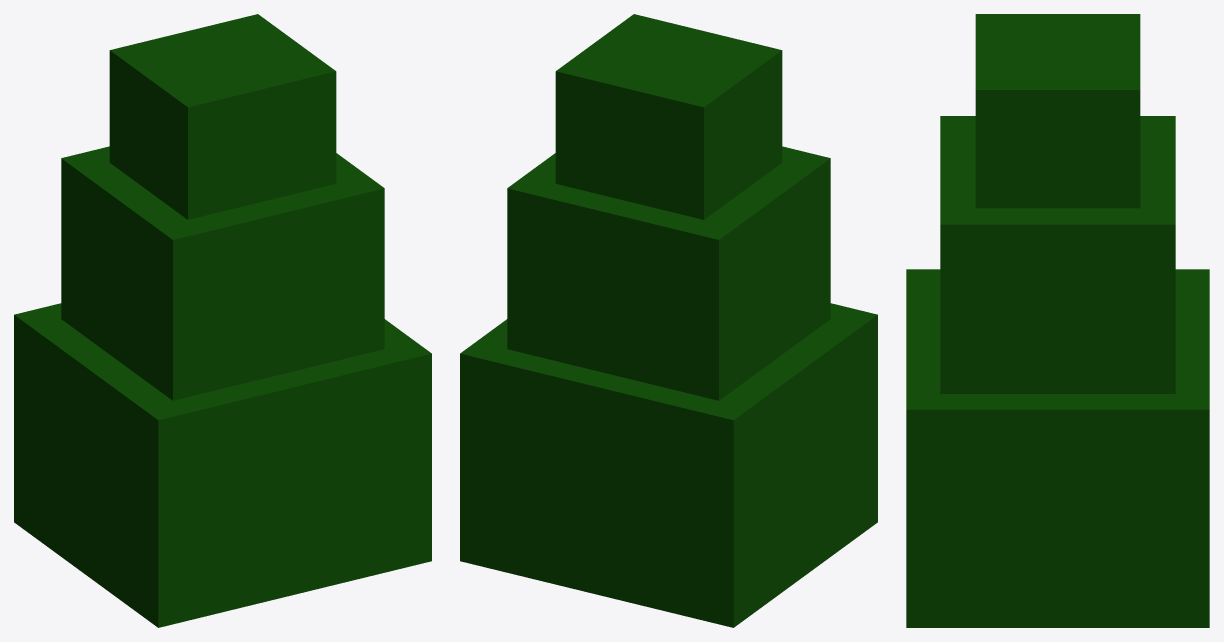
File: tree1.fbx
3 views of the same model, side by side, from view 1: azimuth 30°, elevation 25°; view 2: azimuth 150°, elevation 25°; view 3: azimuth 270°, elevation 25° (orthographic). The views are drawn at different scales.
Parts seen in each view (by area): view 1: leves tree 1; view 2: leves tree 1; view 3: leves tree 1.
Boxes of the visible parts, bbox=[...] form: leves tree 1: bbox=[14, 14, 431, 627]; leves tree 1: bbox=[460, 14, 877, 627]; leves tree 1: bbox=[906, 14, 1209, 627].
Size of the model in its own units: 470 by 868 by 429.
